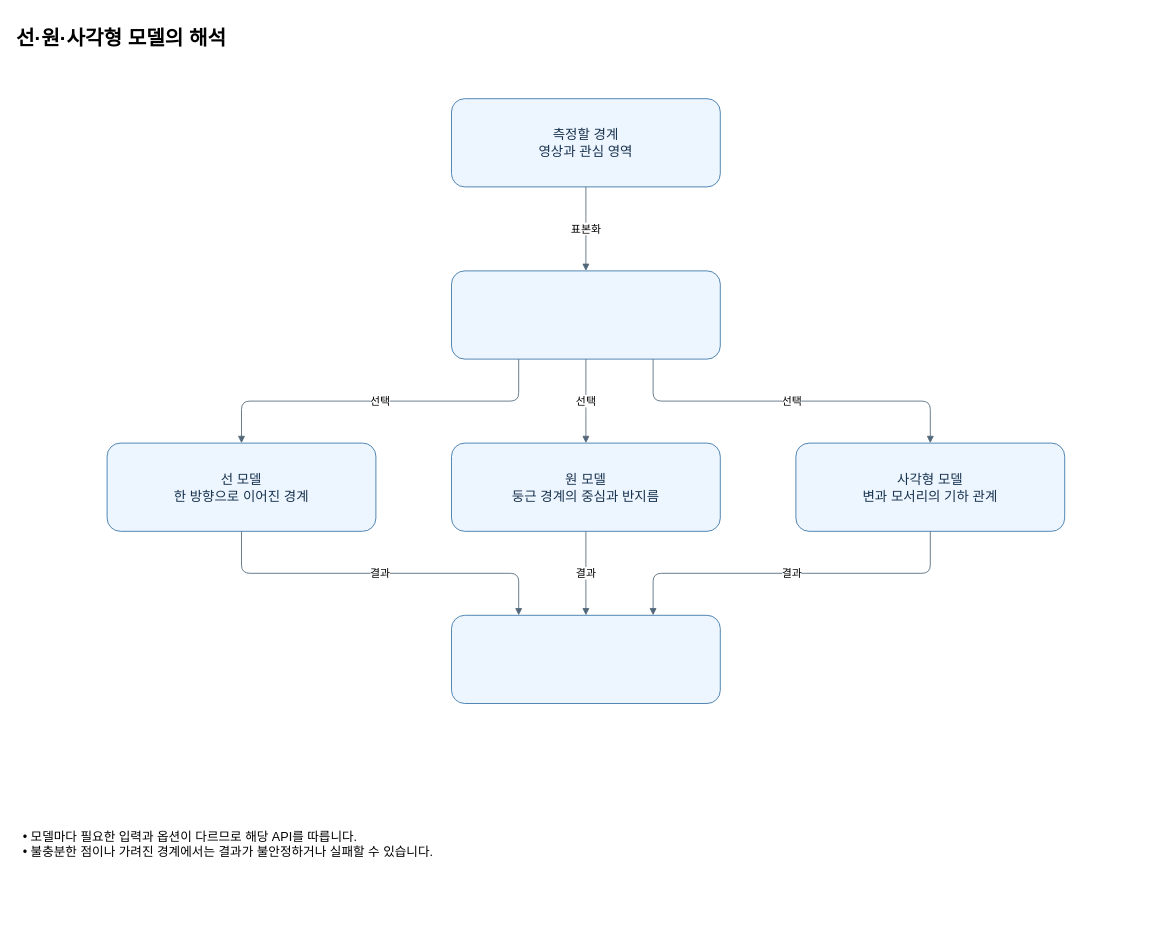
Image size: 1171x932. Some labels were removed from this diagram. Each missing label, with the box of its shape:
결과 판독 유효 점·잔차·좌표계 확인: (451, 614, 720, 704)
에지 점 집합 프로브에서 선택한 후보: (451, 270, 720, 359)
